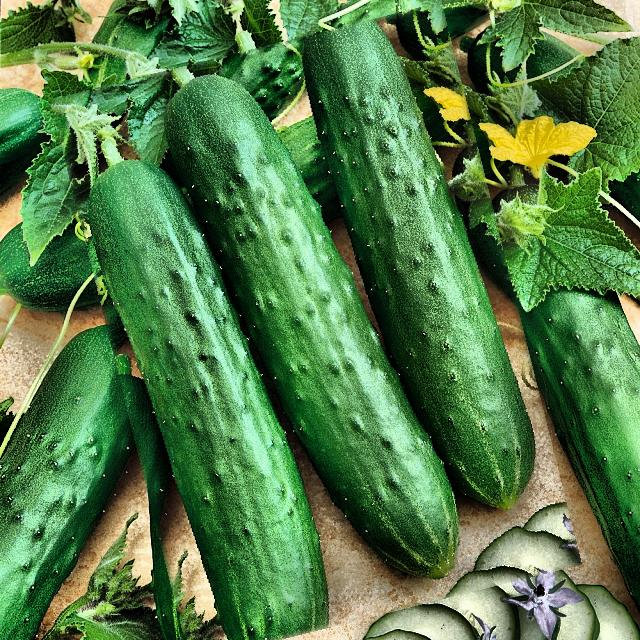cucumber: (81, 21, 550, 640)
